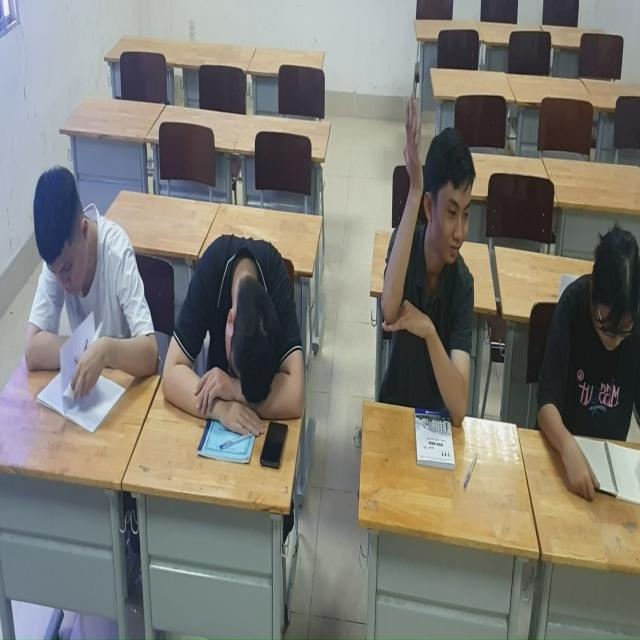raise_hand: (379, 104, 490, 488)
read: (9, 155, 155, 430), (537, 227, 640, 499)
sleep: (159, 218, 314, 455)
